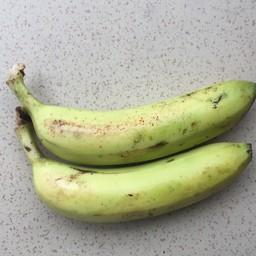Good_banana: (5, 141, 256, 229), (7, 77, 256, 155)
